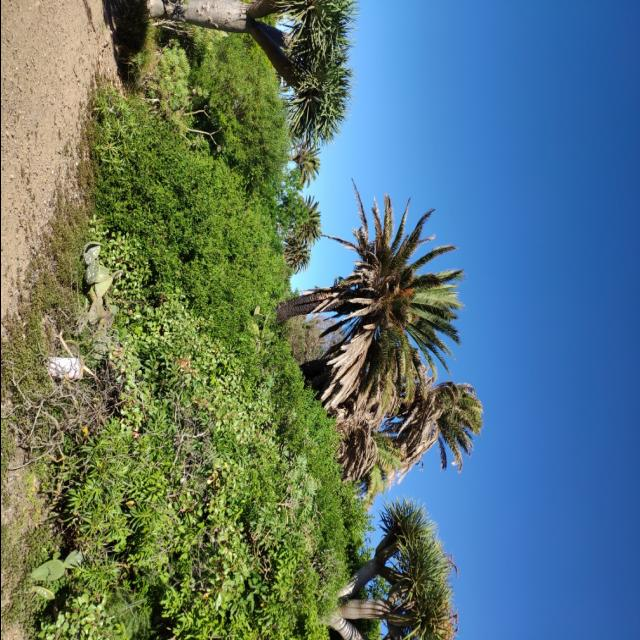Palm-Trees: (272, 186, 466, 402), (378, 382, 484, 474), (282, 138, 320, 186), (280, 235, 312, 278)
